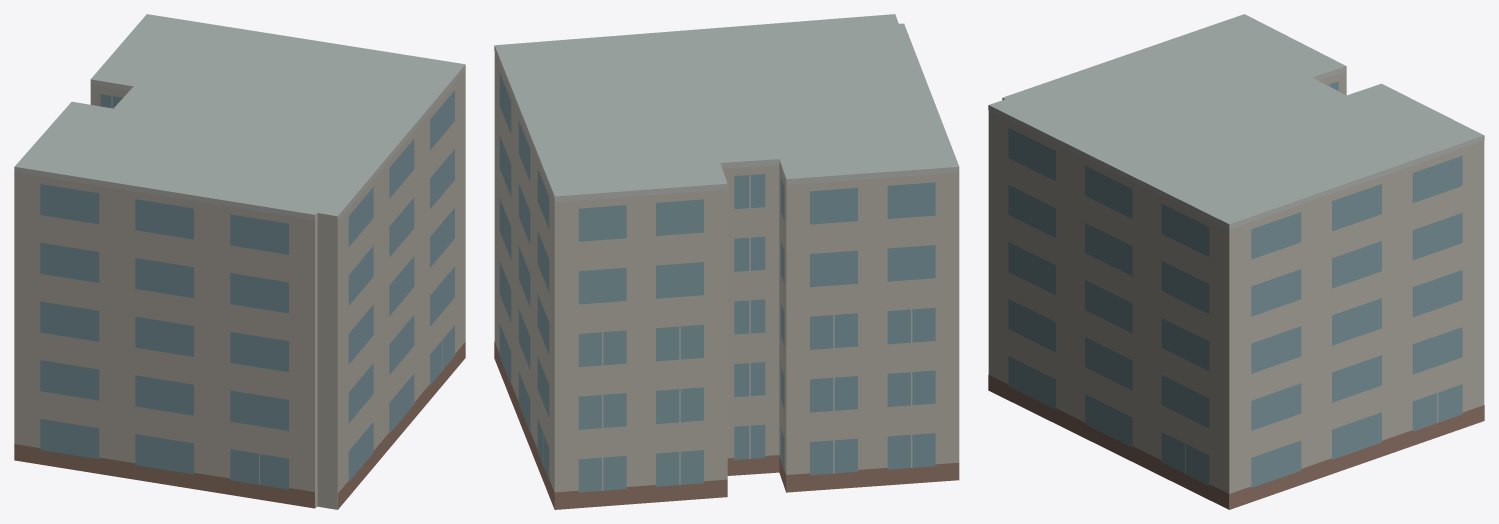
The model's file is survey-upis-32827145.glb.
The picture shows the model from 3 angles, left to right: view 1: azimuth 30°, elevation 25°; view 2: azimuth 150°, elevation 25°; view 3: azimuth 270°, elevation 25°; orthographic projection. The views are drawn at different scales.
Parts seen in each view (by area): view 1: survey-upis-32827145.tmp; view 2: survey-upis-32827145.tmp; view 3: survey-upis-32827145.tmp.
Boxes of the visible parts, bbox=[...] form: survey-upis-32827145.tmp: bbox=[14, 14, 465, 509]; survey-upis-32827145.tmp: bbox=[494, 14, 959, 509]; survey-upis-32827145.tmp: bbox=[988, 14, 1484, 509].
Size of the model in its own units: 21.02 by 13.3 by 20.94.
